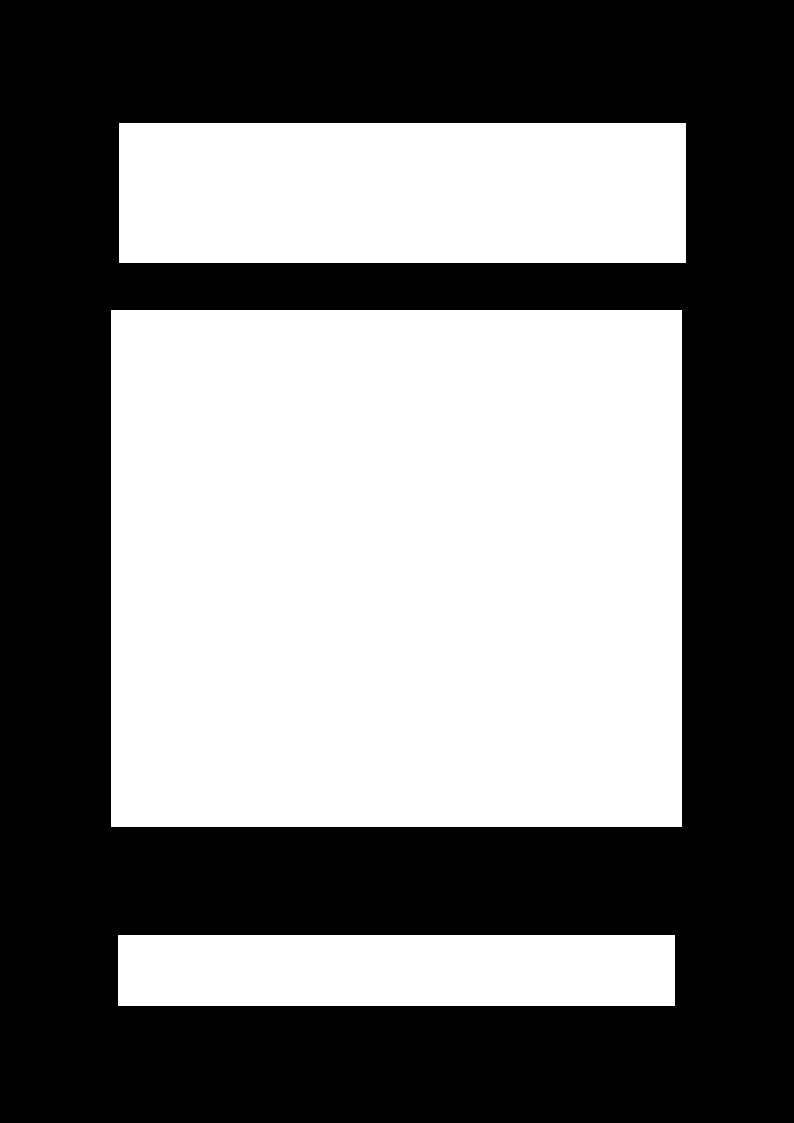table: (111, 310, 681, 826), (119, 123, 685, 262), (118, 935, 674, 1005)
